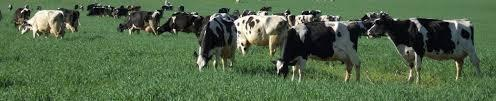cow: (367, 15, 482, 85), (271, 22, 362, 83), (192, 11, 238, 75), (233, 14, 290, 58), (17, 8, 65, 41), (116, 10, 162, 36), (156, 12, 199, 38), (56, 8, 83, 34), (287, 13, 316, 28), (241, 8, 268, 17), (360, 11, 381, 22), (315, 14, 341, 22), (301, 8, 322, 15), (283, 9, 292, 18)
